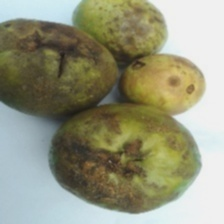guava: (42, 27, 187, 224)
